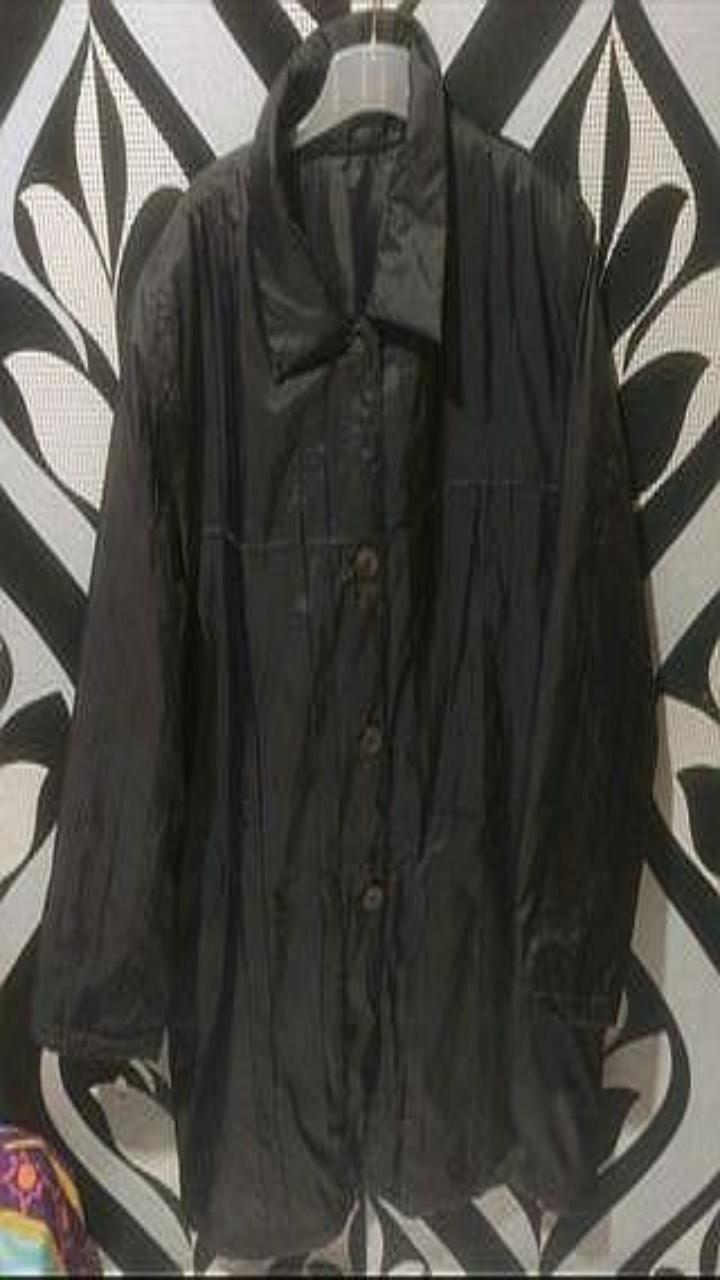Sports_Jacket: (32, 10, 656, 1256)
